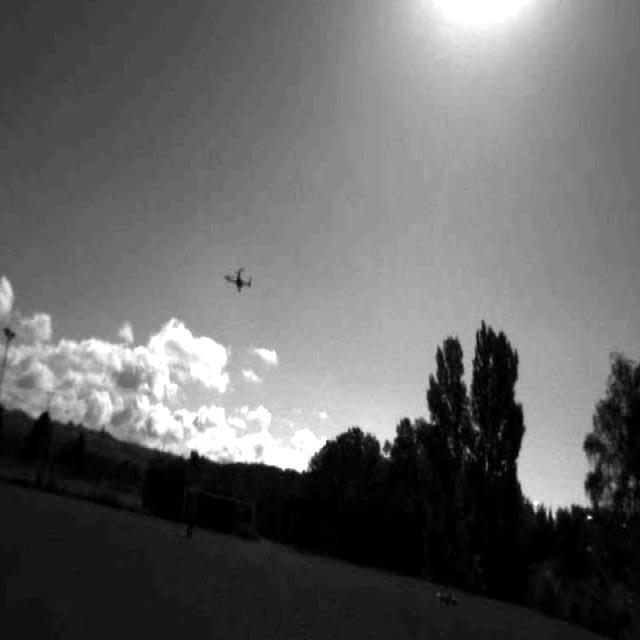drone: (221, 264, 256, 299)
